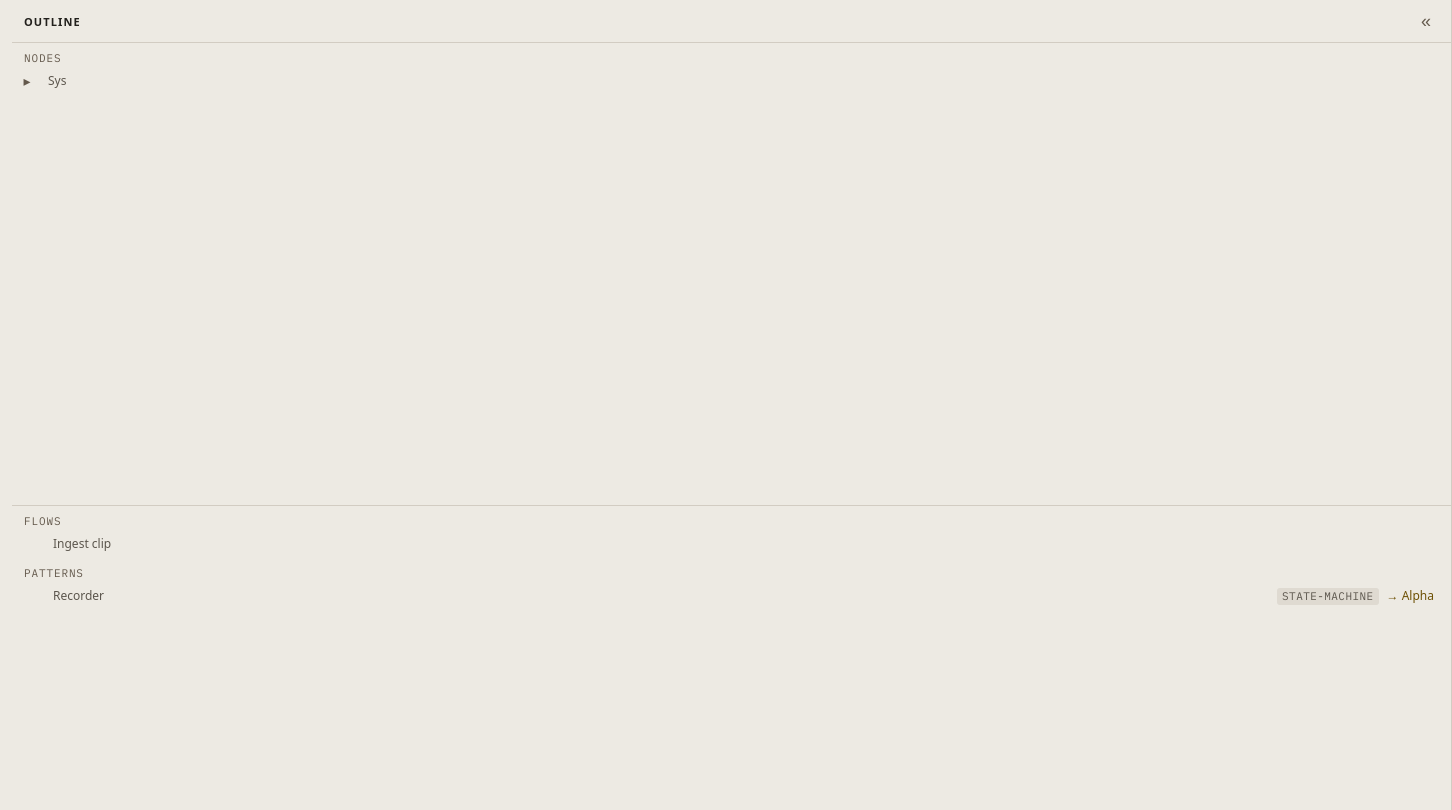
it: TreePanel — flows › selects a flow and lists its numbered steps
Click the button "Ingest clip" at [82, 544], box [48, 536, 1439, 553]
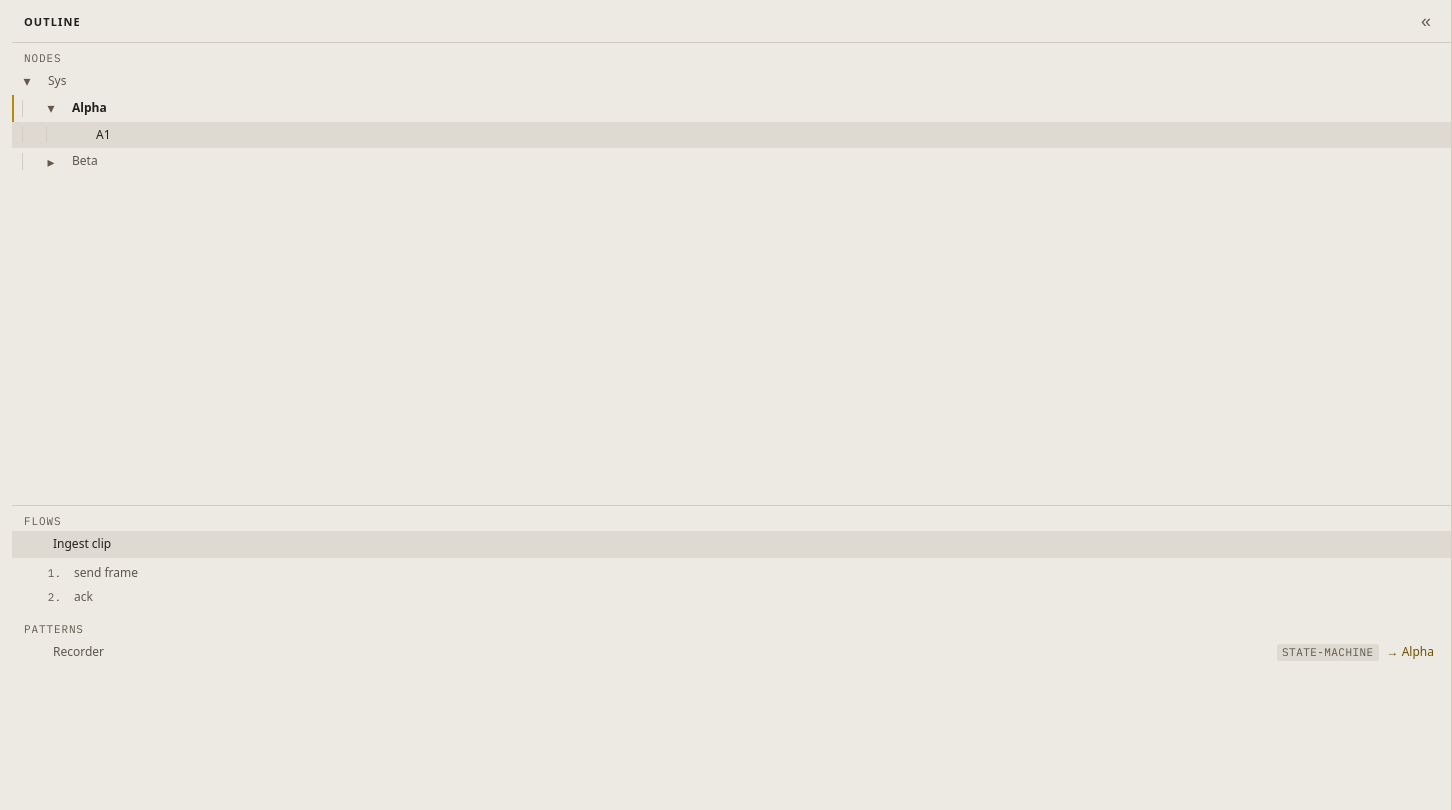
Expected: the button "send frame" is shown, [69, 564, 1439, 582]
Expected: the button "ack" is shown, [69, 588, 1439, 606]
